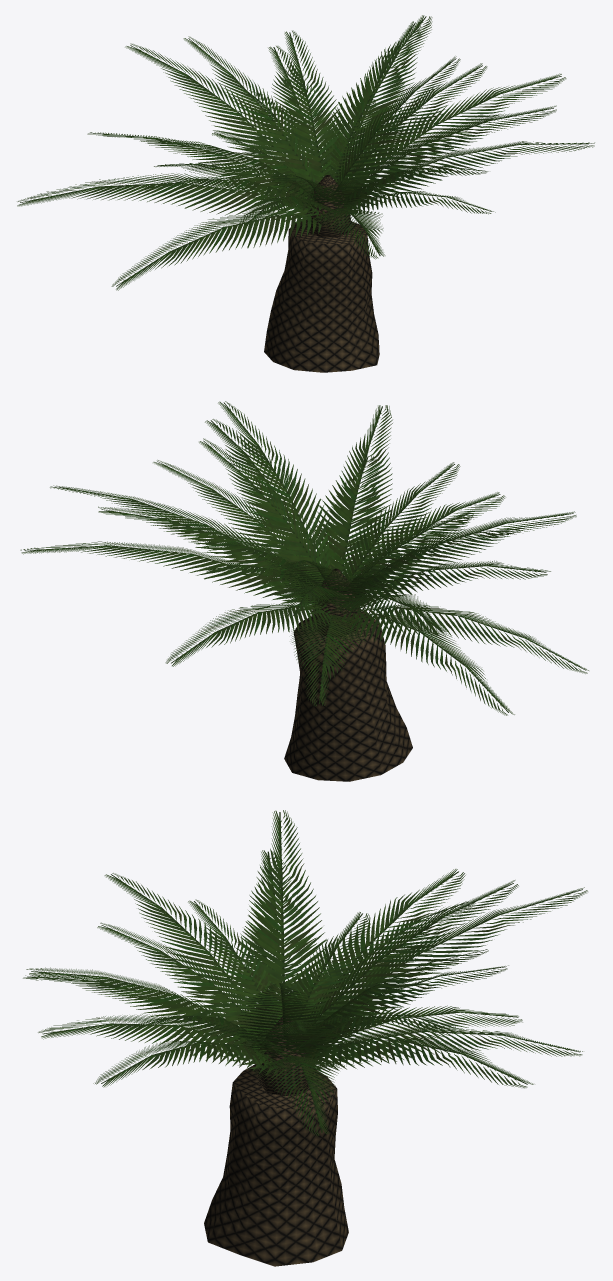
The model's file is ENV_PC_Cycad_A.fbx.
3 renders of one model, top to bottom at view 1: azimuth 30°, elevation 25°; view 2: azimuth 150°, elevation 25°; view 3: azimuth 270°, elevation 25°, orthographic. The views are drawn at different scales.
Parts seen in each view (by area): view 1: ENV_PC_Cycad_A_LOD0; view 2: ENV_PC_Cycad_A_LOD0; view 3: ENV_PC_Cycad_A_LOD0.
Part boxes in pixels (x1,y1,x2,y2): ENV_PC_Cycad_A_LOD0: [17, 15, 594, 372]; ENV_PC_Cycad_A_LOD0: [20, 401, 588, 781]; ENV_PC_Cycad_A_LOD0: [23, 810, 587, 1266].
Size of what is drawn, in the model's own units: 4.58 by 2.33 by 3.69.
